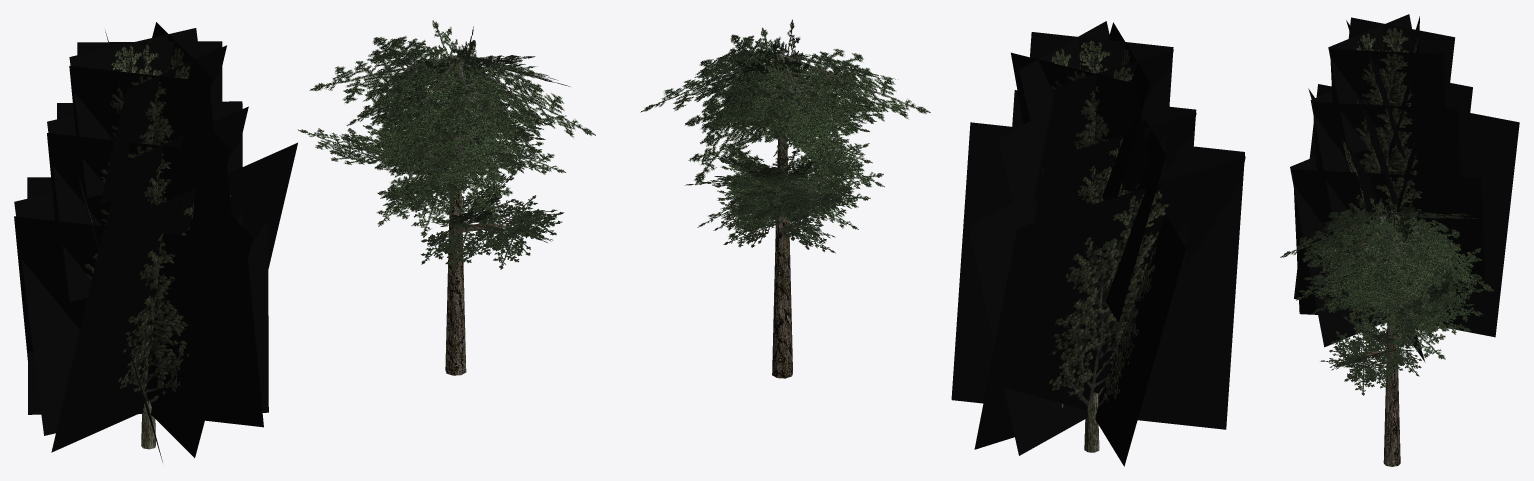
File: Trees.fbx
The picture shows the model from 3 angles, left to right: view 1: azimuth 30°, elevation 25°; view 2: azimuth 150°, elevation 25°; view 3: azimuth 270°, elevation 25°; orthographic projection. The views are drawn at different scales.
Parts seen in each view (by area): view 1: Tree2, Tree1; view 2: Tree2, Tree1; view 3: Tree2, Tree1.
Part boxes in pixels (left/top/right/bottom): Tree2: left=14, top=22, right=297, bottom=462; Tree1: left=298, top=20, right=595, bottom=375; Tree2: left=951, top=21, right=1245, bottom=466; Tree1: left=640, top=19, right=930, bottom=378; Tree2: left=1290, top=14, right=1519, bottom=362; Tree1: left=1280, top=192, right=1493, bottom=466.
Bounding box in the file's own units: 2828 × 1401 × 1935.
